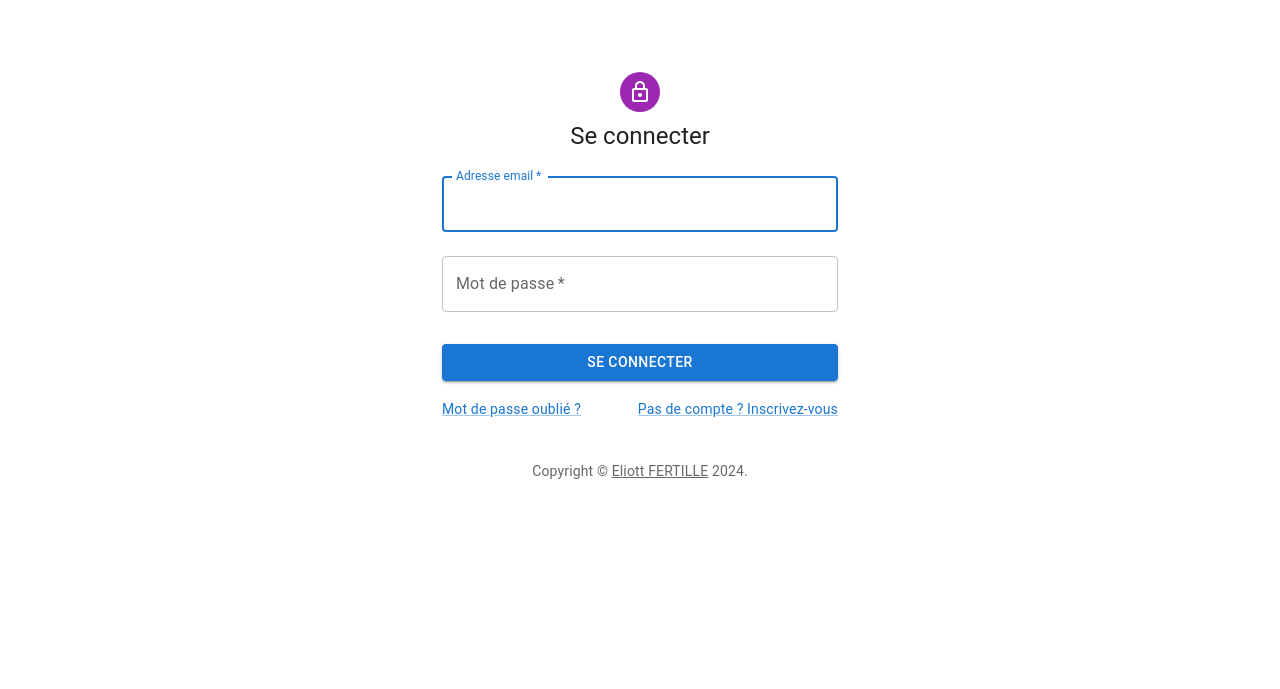
Test: Session Creation › should create a new session successfully
The image size is (1280, 689).
Type "user1@gmail.com" into the field named "email" at [640, 204], box [442,176,838,232]
Type "123456789" into the password field named "password" at [640, 284], box [442,256,838,312]
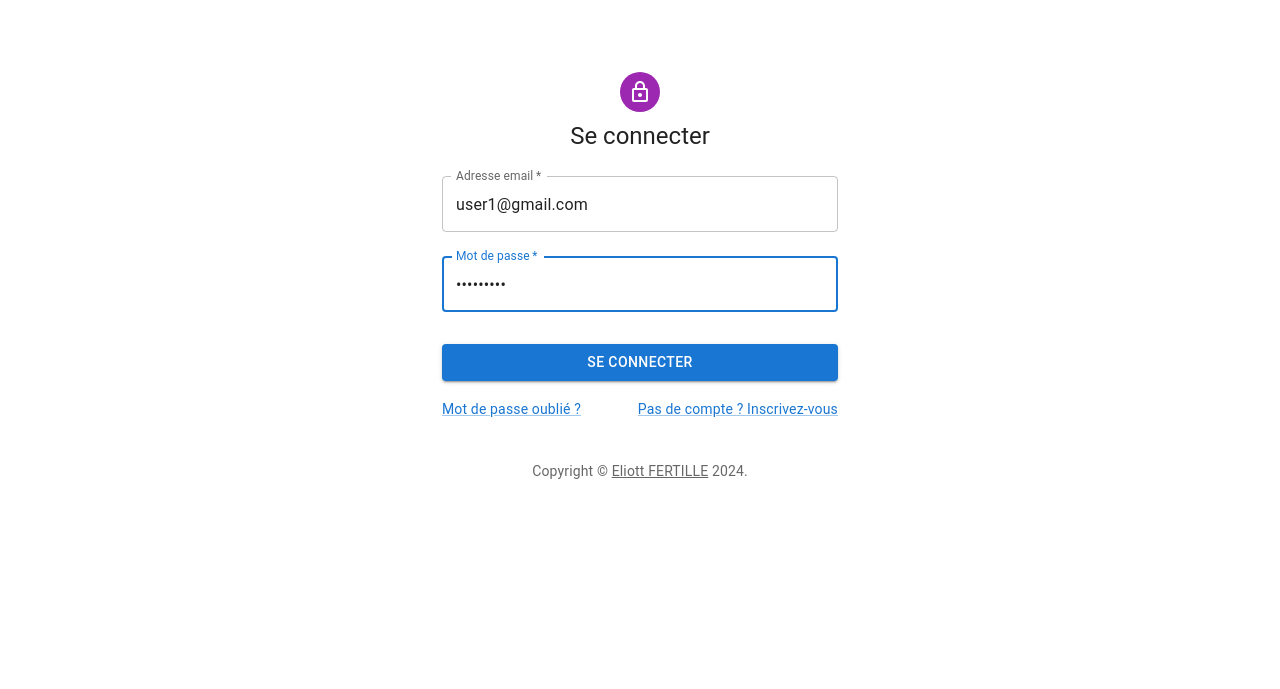
Click the submit button at [640, 363], box [442,344,838,381]
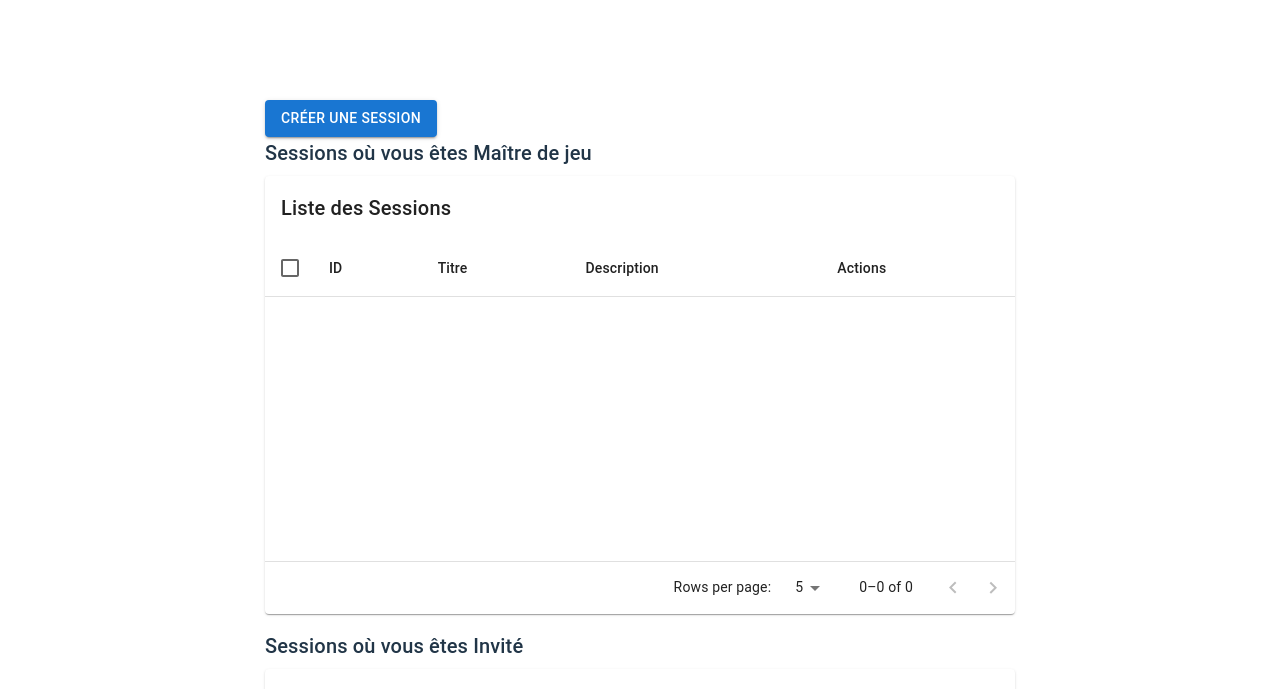
Click the button "Créer une session" at [351, 119], box [265,100,437,137]
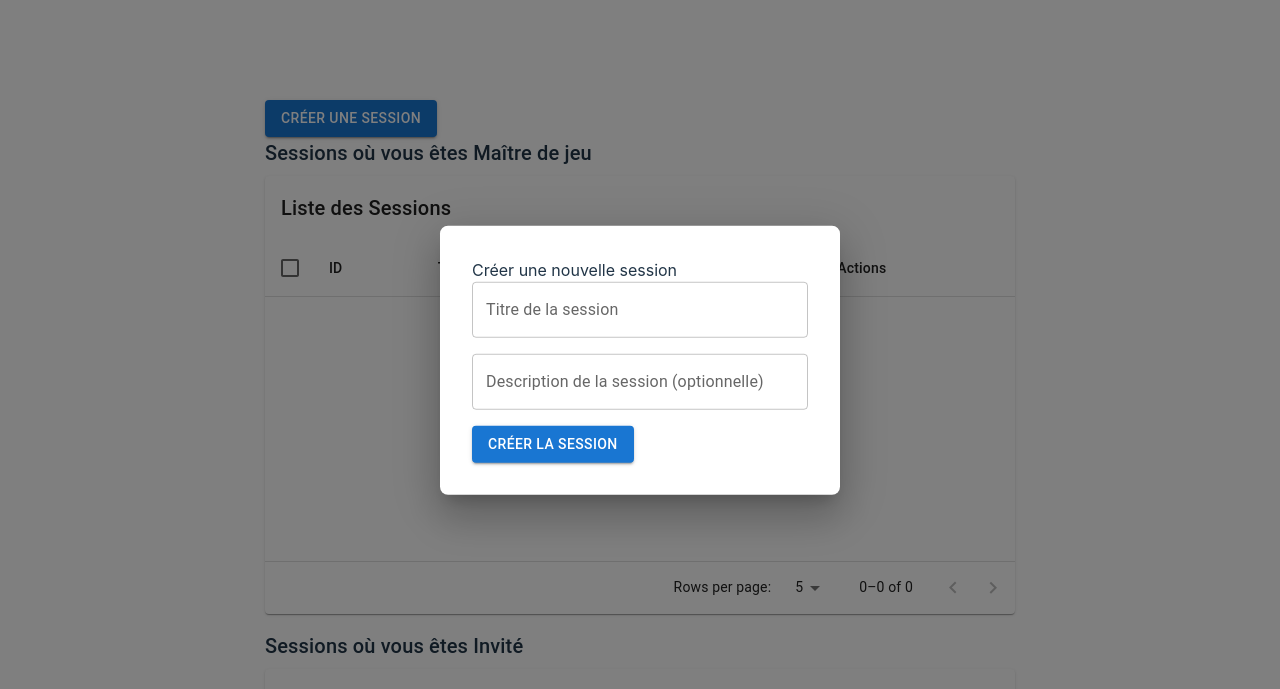
Type "Nouvelle Session" into the field with test id "session-title-input" at [640, 310], box [472,282,808,338]
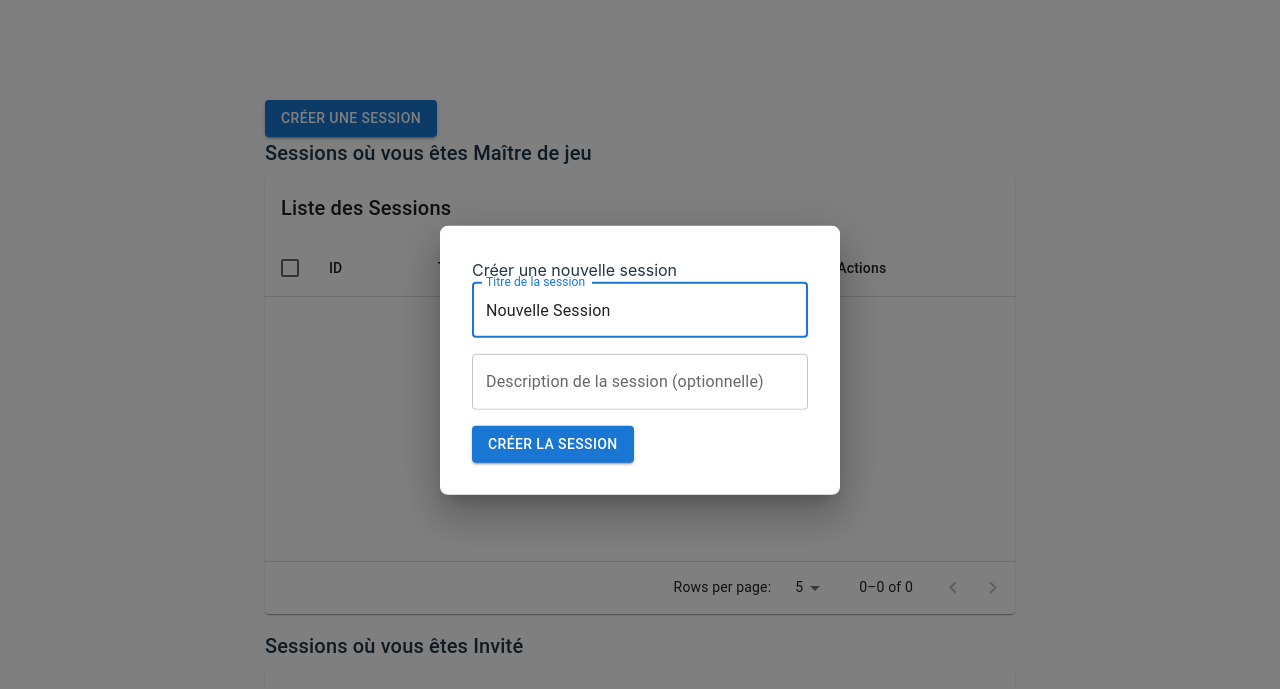
Type "Description de test" into the field with test id "session-description-input" at [640, 382], box [472,354,808,410]
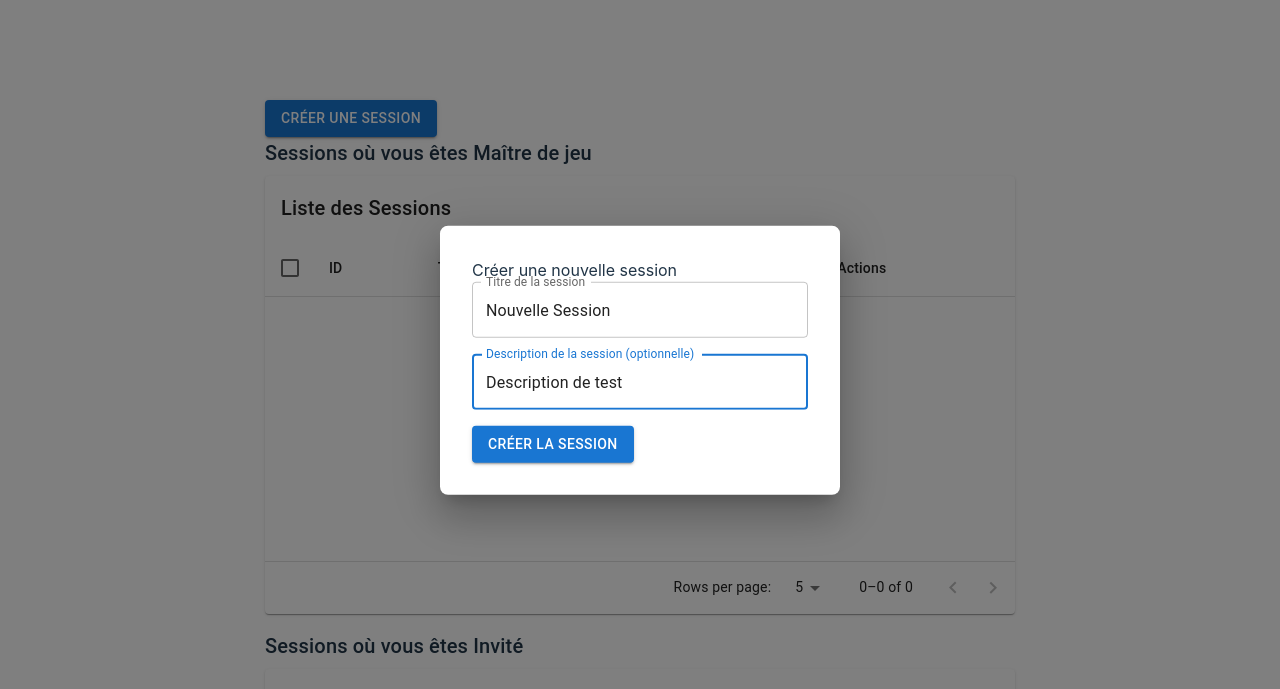
Click the button with test id "create-session-button" at [553, 445], box [472,426,634,463]
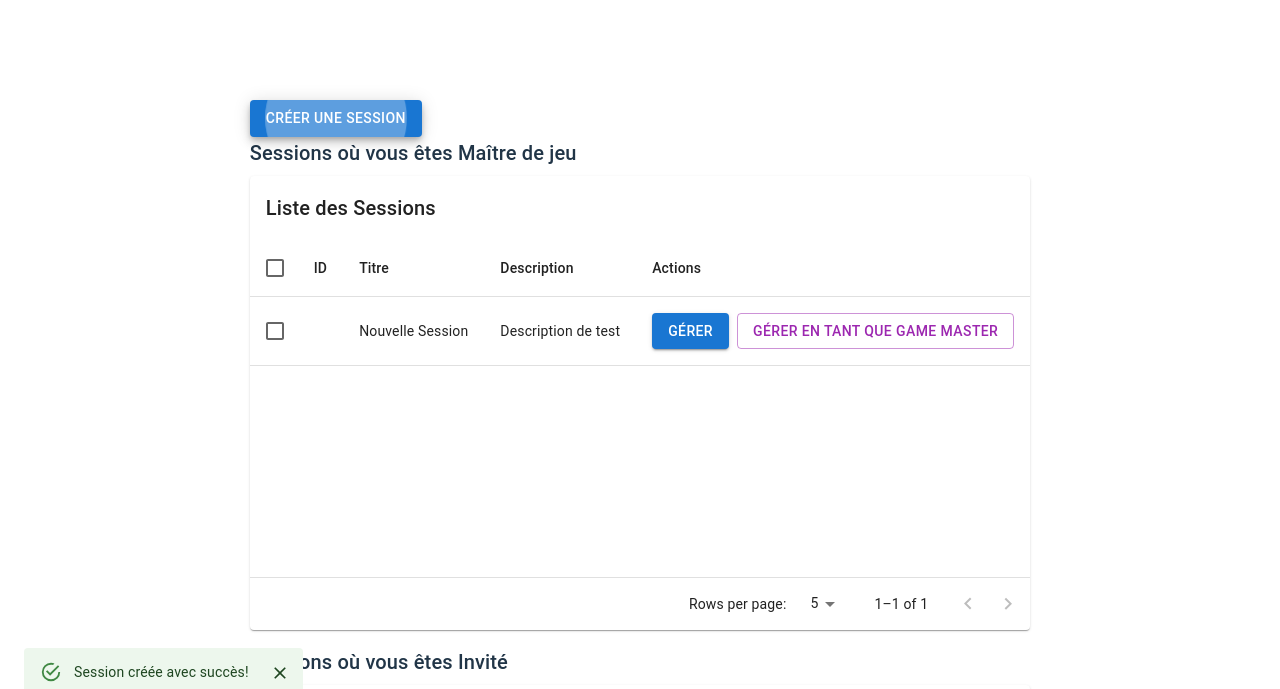
Expected: the text "Nouvelle Session" is shown, [343,296,484,366]
Expected: the text "Session créée avec succès!" is shown, [74,664,249,680]
Expected: the heading "Créer une nouvelle session" is gone
